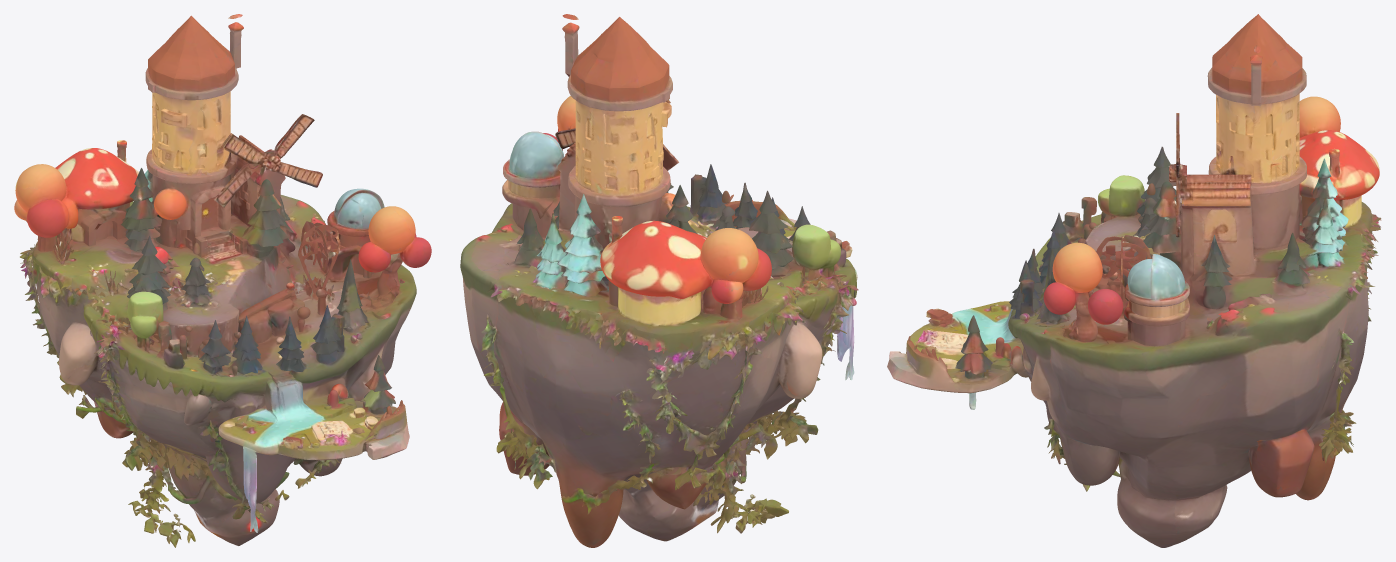
The model's file is island_with_tower-transformed.glb.
3 renders of one model, left to right at view 1: azimuth 30°, elevation 25°; view 2: azimuth 150°, elevation 25°; view 3: azimuth 270°, elevation 25°, orthographic. The views are drawn at different scales.
Parts seen in each view (by area): view 1: model; view 2: model; view 3: model.
Boxes of the visible parts, x1,y1,x2,y2 form: model: (14,14,431,547); model: (460,14,858,547); model: (887,14,1381,547).
Size of the model in its own units: 1.2 by 1.84 by 1.55.
Materials: 1 (1 with a texture image).
